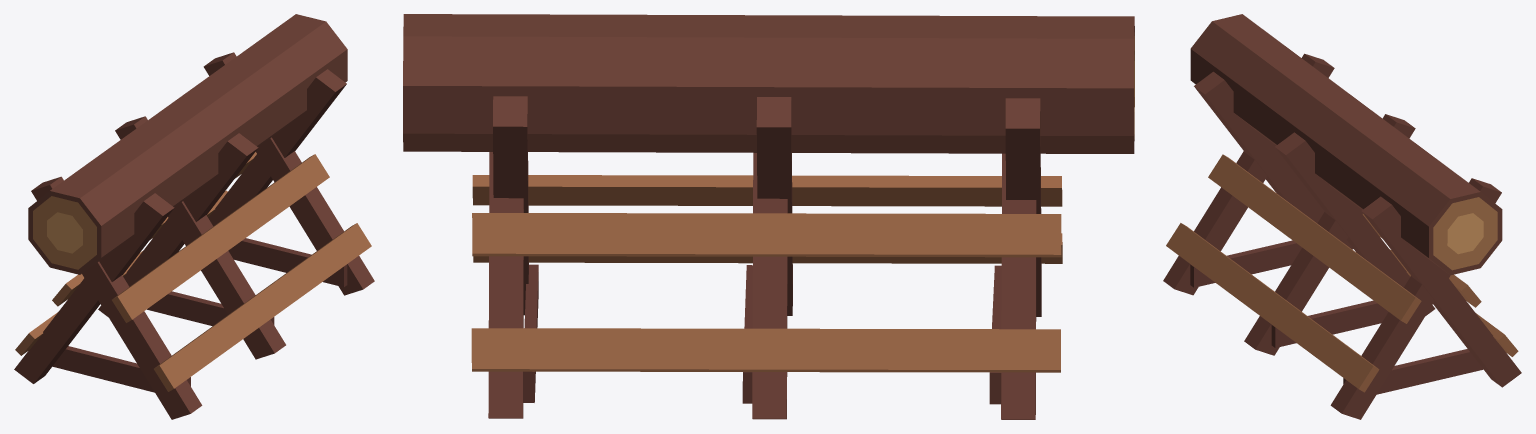
The model's file is goat_with_log_plain.fbx.
3 views of the same model, side by side, from view 1: azimuth 30°, elevation 25°; view 2: azimuth 150°, elevation 25°; view 3: azimuth 270°, elevation 25° (orthographic). The views are drawn at different scales.
Parts seen in each view (by area): view 1: goats_for_sawing, Deck; view 2: goats_for_sawing, Deck; view 3: goats_for_sawing, Deck.
Boxes of the visible parts, <box> form: goats_for_sawing: <box>14,52,374,419</box>; Deck: <box>28,14,347,274</box>; goats_for_sawing: <box>471,96,1062,419</box>; Deck: <box>403,14,1134,153</box>; goats_for_sawing: <box>1163,53,1521,419</box>; Deck: <box>1190,14,1502,275</box>.
Bounding box in the file's own units: 185 × 101 × 143.
